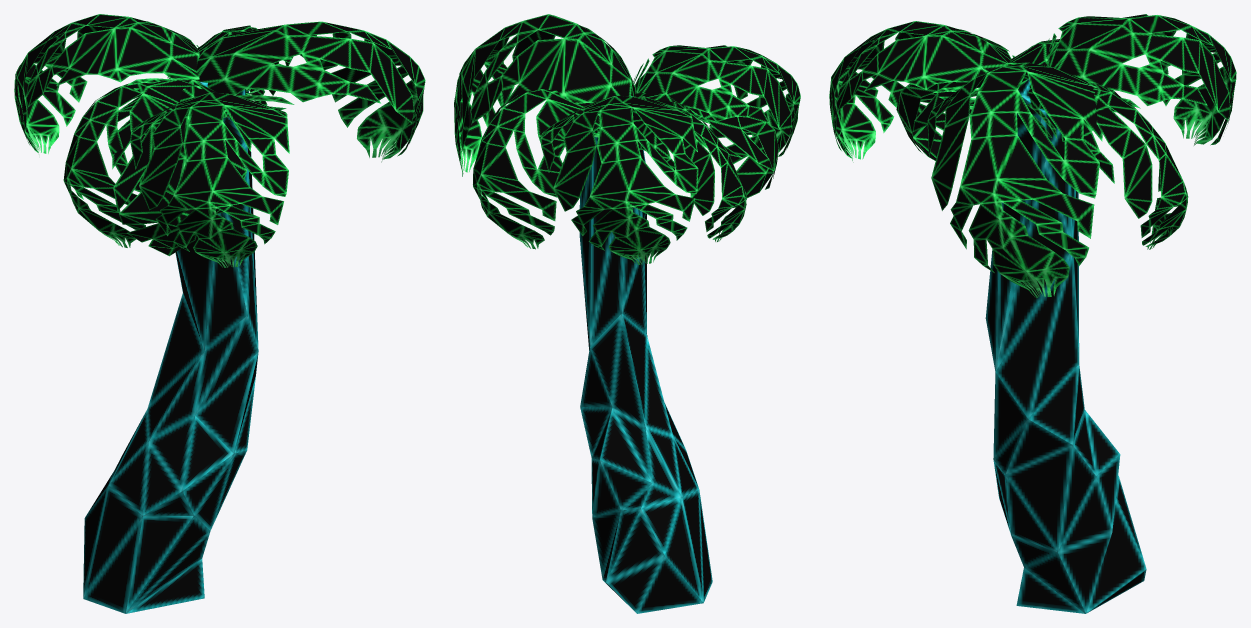
The model's file is palm3.FBX.
3 views of the same model, side by side, from view 1: azimuth 30°, elevation 25°; view 2: azimuth 150°, elevation 25°; view 3: azimuth 270°, elevation 25° (orthographic). The views are drawn at different scales.
Visible parts, largest first — view 1: palm3; view 2: palm3; view 3: palm3.
Part boxes in pixels (box(x1,y1,x2,y2)): palm3: box(14, 14, 425, 613); palm3: box(454, 14, 800, 613); palm3: box(829, 14, 1236, 613).
Size of the model in its own units: 5.92 by 5.98 by 9.4.
